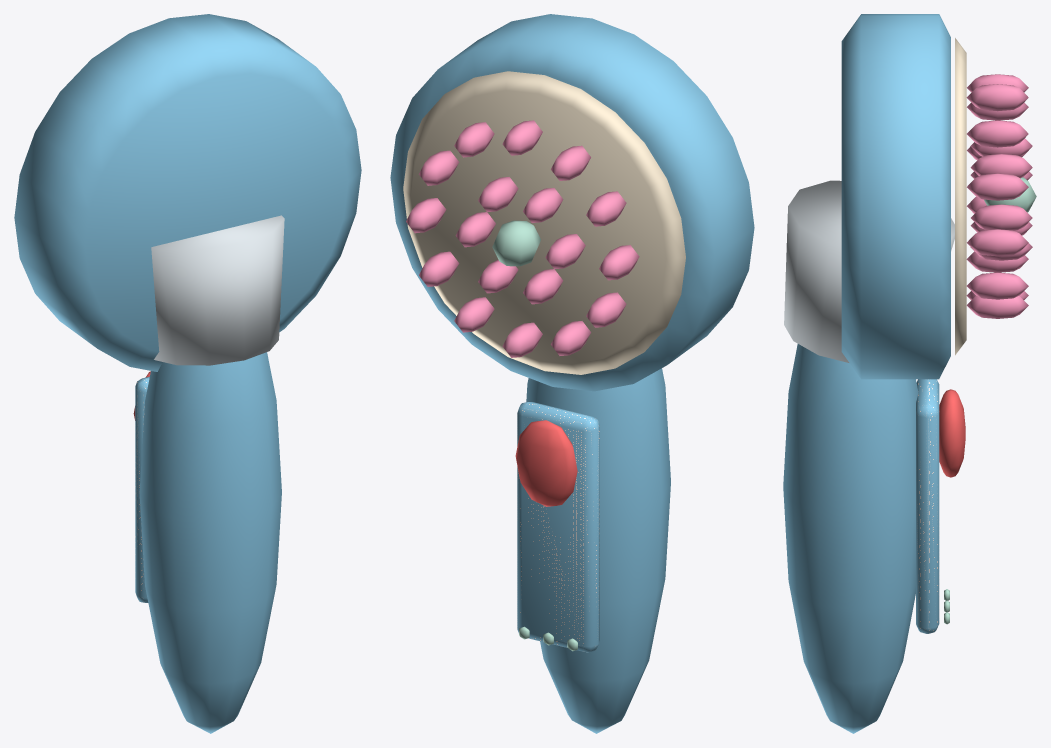
Rendered from brush_electric.glb.
3 renders of one model, left to right at view 1: azimuth 30°, elevation 25°; view 2: azimuth 150°, elevation 25°; view 3: azimuth 270°, elevation 25°, orthographic. The views are drawn at different scales.
Visible parts, largest first — view 1: Head, Body; view 2: Head, Body; view 3: Body, Head.
Part boxes in pixels (x1,y1,x2,y2): Head: (14,14,361,371); Body: (133,215,284,733); Head: (390,14,754,391); Body: (515,368,670,733); Body: (783,180,965,733); Head: (841,14,1036,379).
Bounding box in the file's own units: 0.1039 × 0.22 × 0.0719.
6 materials, 6 textured.
